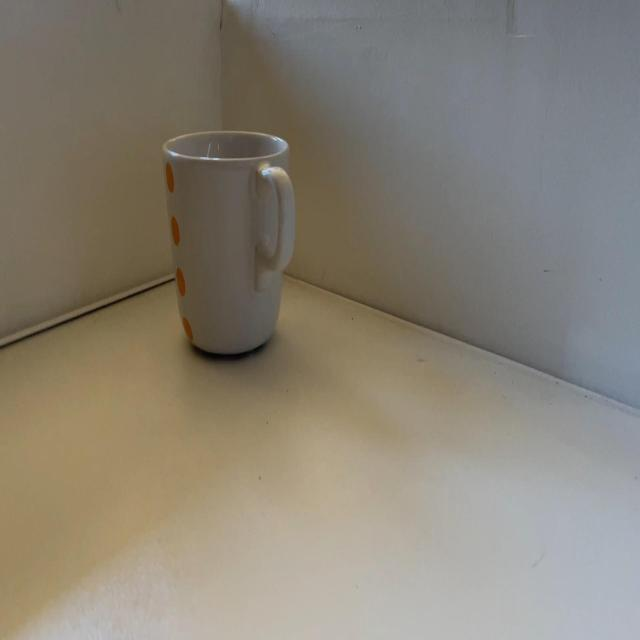cup: (162, 129, 296, 356)
